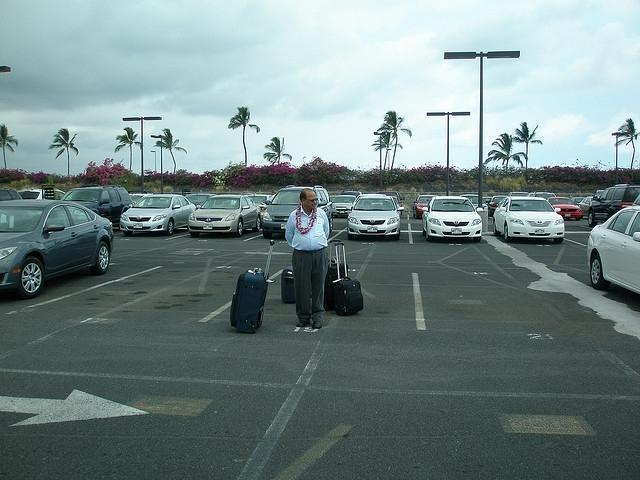car: (0, 200, 121, 298), (587, 205, 640, 298), (261, 185, 333, 240), (118, 194, 198, 240), (490, 196, 566, 244), (59, 184, 135, 228), (188, 194, 262, 238), (419, 194, 483, 241), (346, 192, 402, 238), (587, 185, 640, 226), (549, 196, 584, 221), (18, 186, 67, 200), (332, 195, 356, 217)
